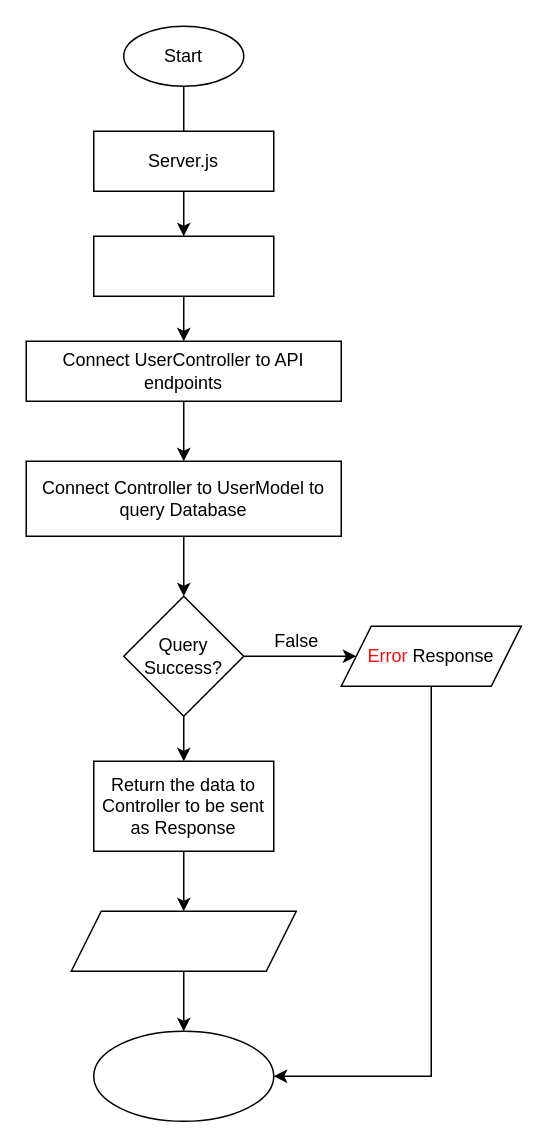
Image size: 548x1148. Some labels were removed from this diagram. Each missing label, with the box of its shape:
End: (92, 1030, 274, 1121)
Routes: (92, 235, 274, 296)
Success Response: (70, 910, 296, 971)
